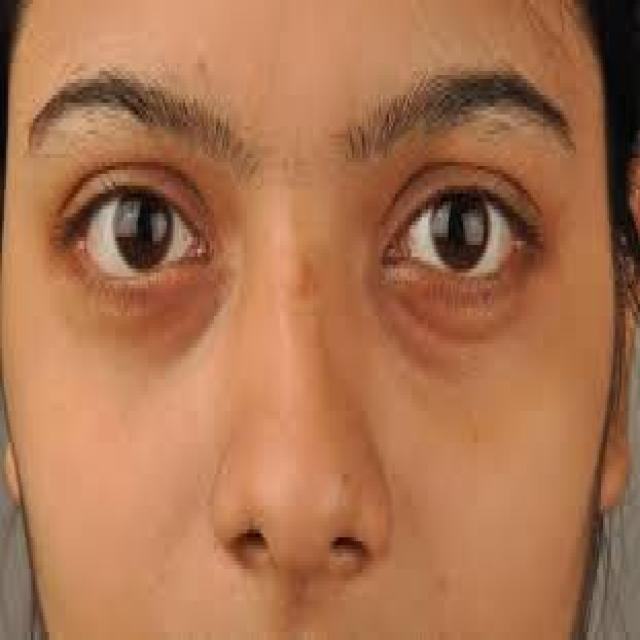Puffy Eyes - v3 Dark Circle: (370, 272, 534, 400), (50, 264, 239, 374)
